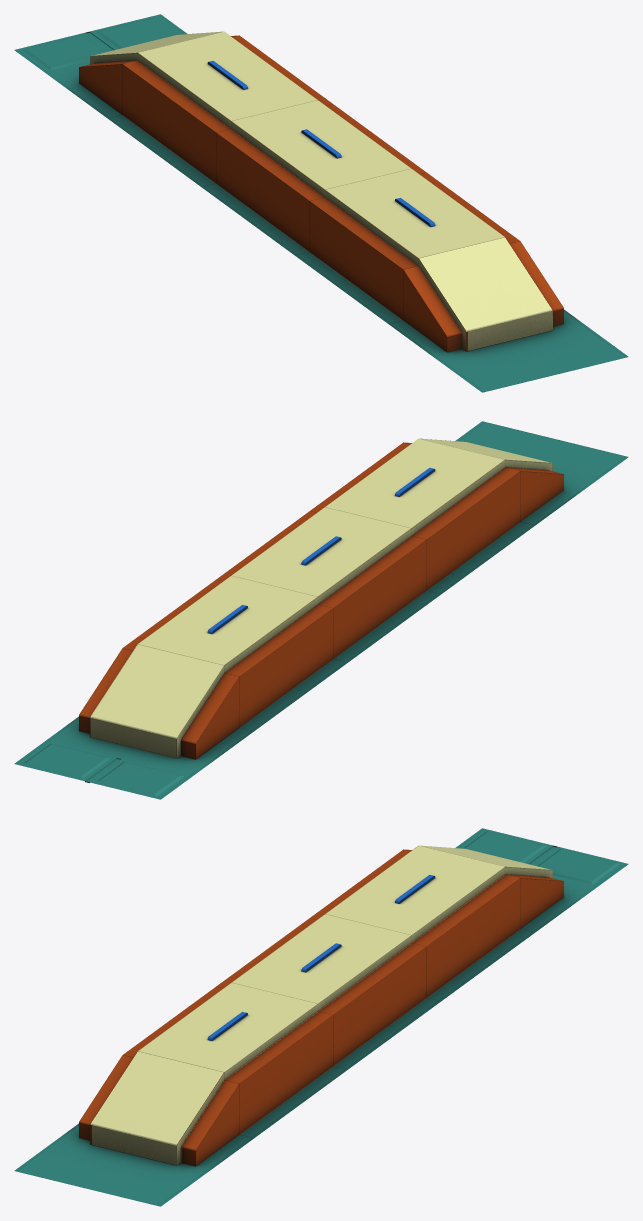
File: sc_lvl1_floortile_07.FBX
3 renders of one model, top to bottom at view 1: azimuth 30°, elevation 25°; view 2: azimuth 150°, elevation 25°; view 3: azimuth 330°, elevation 25°, orthographic.
Parts seen in each view (by area): view 1: sc_lvl1_floortile_07; view 2: sc_lvl1_floortile_07; view 3: sc_lvl1_floortile_07.
Boxes of the visible parts, x1,y1,x2,y2 form: sc_lvl1_floortile_07: (14, 14, 628, 392); sc_lvl1_floortile_07: (14, 421, 628, 799); sc_lvl1_floortile_07: (14, 828, 628, 1206).
Bounding box in the file's own units: 18.1 × 7.32 × 100.
